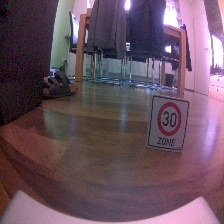dreisiger_zone: (147, 94, 189, 154)
